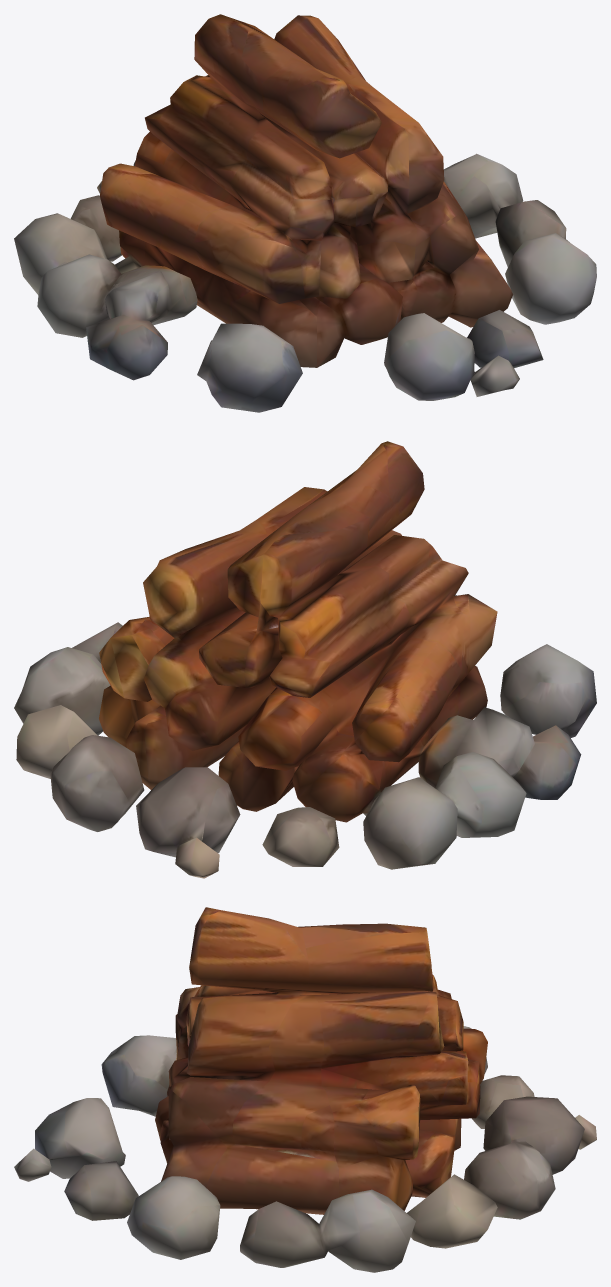
The model's file is campfire.glb.
The picture shows the model from 3 angles, top to bottom: view 1: azimuth 30°, elevation 25°; view 2: azimuth 150°, elevation 25°; view 3: azimuth 270°, elevation 25°; orthographic projection. The views are drawn at different scales.
Parts seen in each view (by area): view 1: tripo_node_ac2ab70c-bae7-4362-a16f-7dc47c084327; view 2: tripo_node_ac2ab70c-bae7-4362-a16f-7dc47c084327; view 3: tripo_node_ac2ab70c-bae7-4362-a16f-7dc47c084327.
Boxes of the visible parts, left/top/right/bottom form: tripo_node_ac2ab70c-bae7-4362-a16f-7dc47c084327: left=14, top=14, right=596, bottom=412; tripo_node_ac2ab70c-bae7-4362-a16f-7dc47c084327: left=14, top=441, right=596, bottom=878; tripo_node_ac2ab70c-bae7-4362-a16f-7dc47c084327: left=14, top=907, right=596, bottom=1272.
Size of the model in its own units: 0.7768 by 0.4254 by 0.8934.
Materials: 1 (1 with a texture image).
